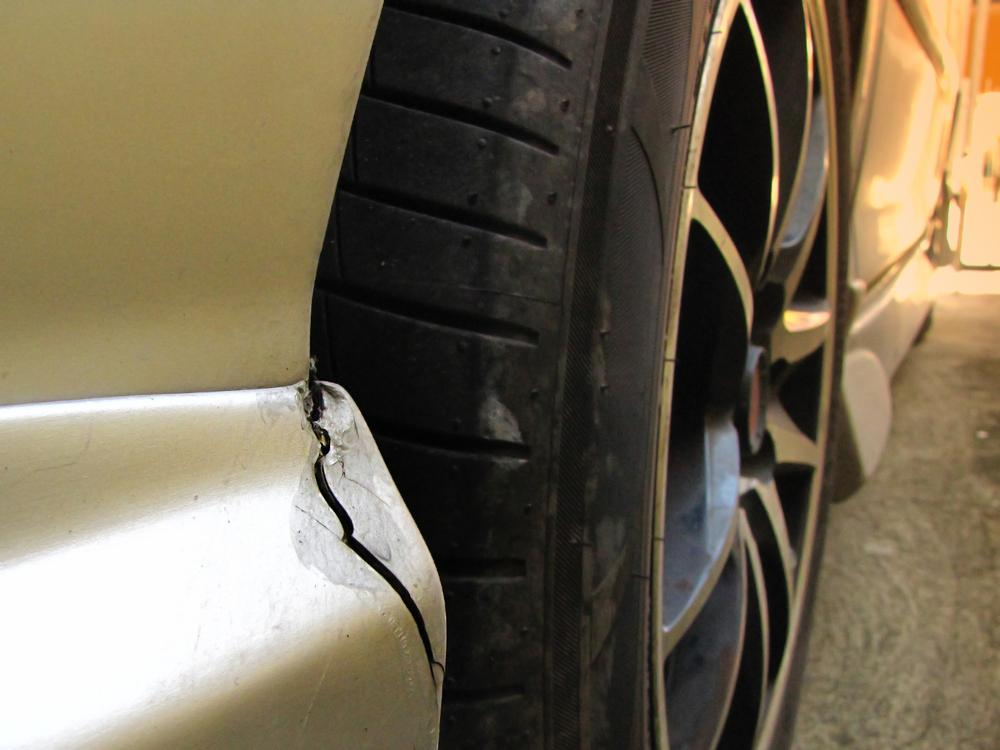crack: (306, 383, 446, 695)
